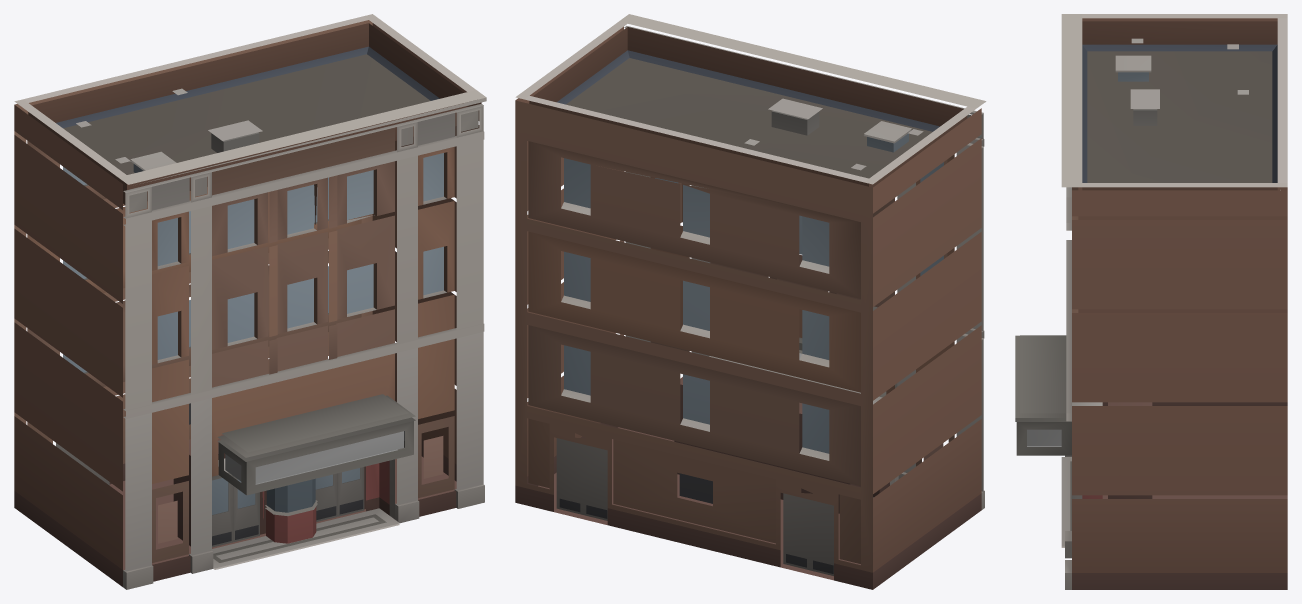
The model's file is theater.lod.glb.
3 views of the same model, side by side, from view 1: azimuth 30°, elevation 25°; view 2: azimuth 150°, elevation 25°; view 3: azimuth 270°, elevation 25° (orthographic).
Visible parts, largest first — view 1: theater; view 2: theater; view 3: theater.
Part boxes in pixels (<box>): theater: <box>14,14,486,589</box>; theater: <box>515,14,986,589</box>; theater: <box>1015,14,1287,589</box>.
Size of the model in its own units: 12 by 13 by 7.97.
